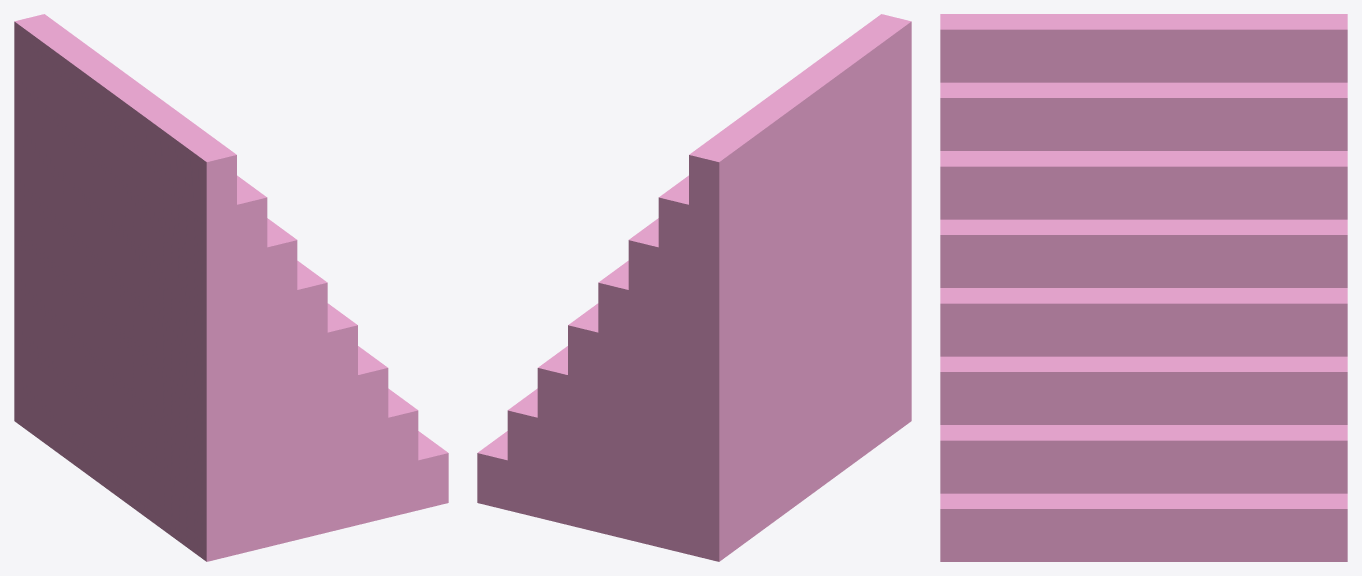
Rendered from castle walls 18.fbx.
3 views of the same model, side by side, from view 1: azimuth 30°, elevation 25°; view 2: azimuth 150°, elevation 25°; view 3: azimuth 270°, elevation 25° (orthographic). The views are drawn at different scales.
Parts seen in each view (by area): view 1: Cube.020; view 2: Cube.020; view 3: Cube.020.
Boxes of the visible parts, box(x1,y1,x2,y2) form: Cube.020: box(14, 14, 448, 561); Cube.020: box(477, 14, 911, 561); Cube.020: box(940, 14, 1347, 561).
Bounding box in the file's own units: 190 × 300 × 262.
